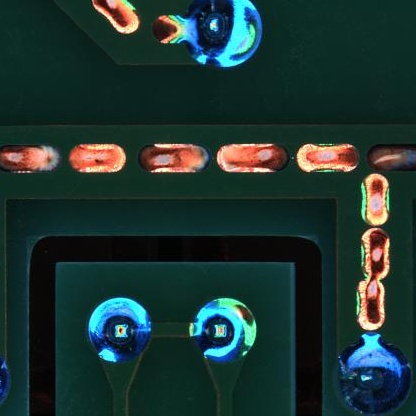spot: (333, 343, 411, 416), (189, 3, 262, 70), (88, 297, 154, 364), (192, 297, 257, 362)
